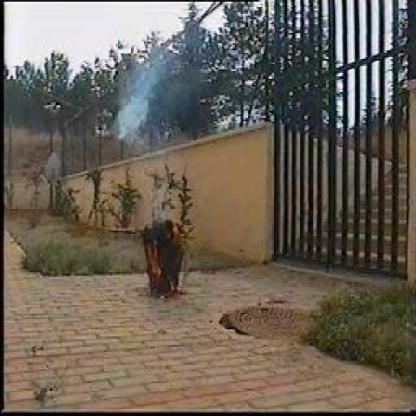-: (113, 65, 159, 148)
foggia-v2-map80-epoch100 - v1 4323: (143, 236, 163, 270)
